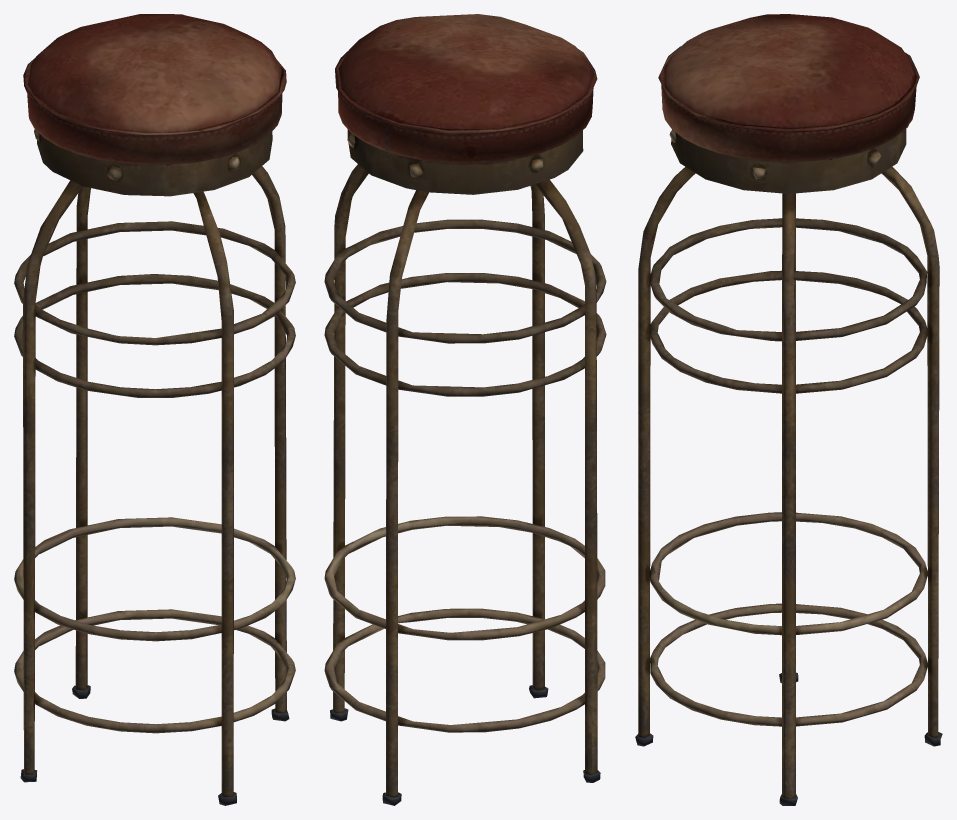
File: stool.glb
The picture shows the model from 3 angles, left to right: view 1: azimuth 30°, elevation 25°; view 2: azimuth 150°, elevation 25°; view 3: azimuth 270°, elevation 25°; orthographic projection.
Visible parts, largest first — view 1: metal_stool_01; view 2: metal_stool_01; view 3: metal_stool_01.
Part boxes in pixels (x1,y1,x2,y2): metal_stool_01: (14, 14, 295, 805); metal_stool_01: (324, 14, 606, 805); metal_stool_01: (635, 14, 942, 805).
Size of the model in its own units: 0.3504 by 0.8816 by 0.353.
Materials: 1 (1 with a texture image).
